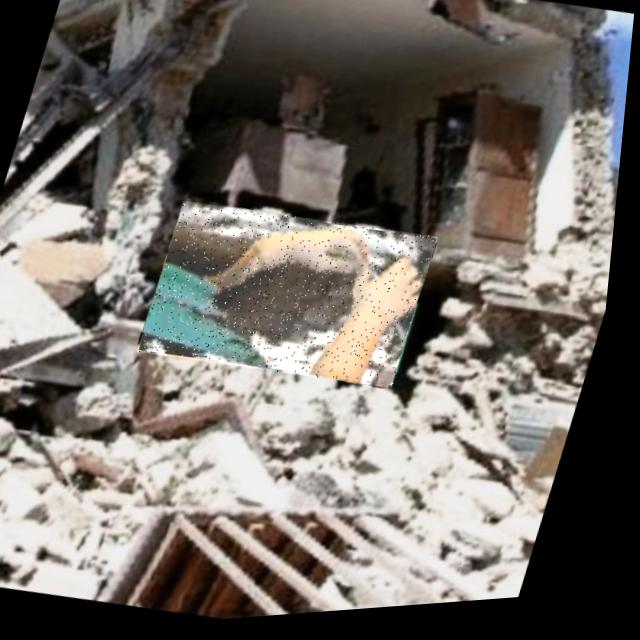Person in Rubble: (140, 189, 447, 410)
